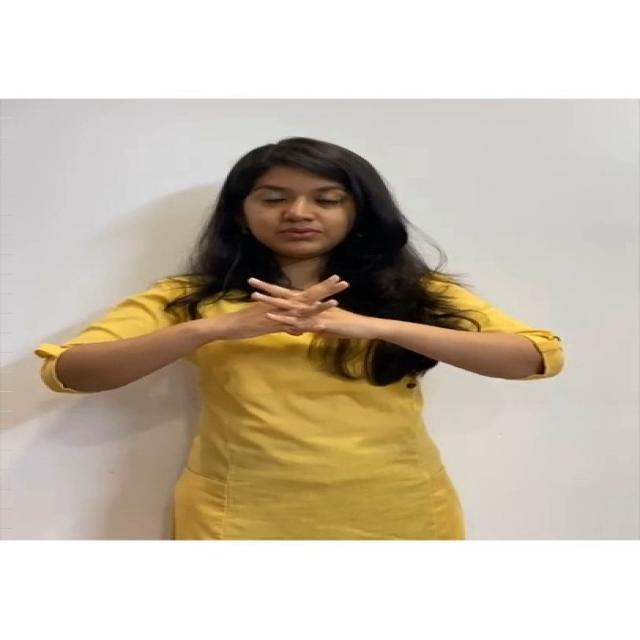W: (239, 270, 357, 339)
